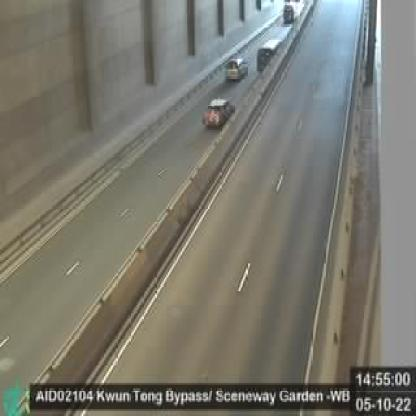Car: (203, 97, 233, 128), (225, 55, 246, 80)
